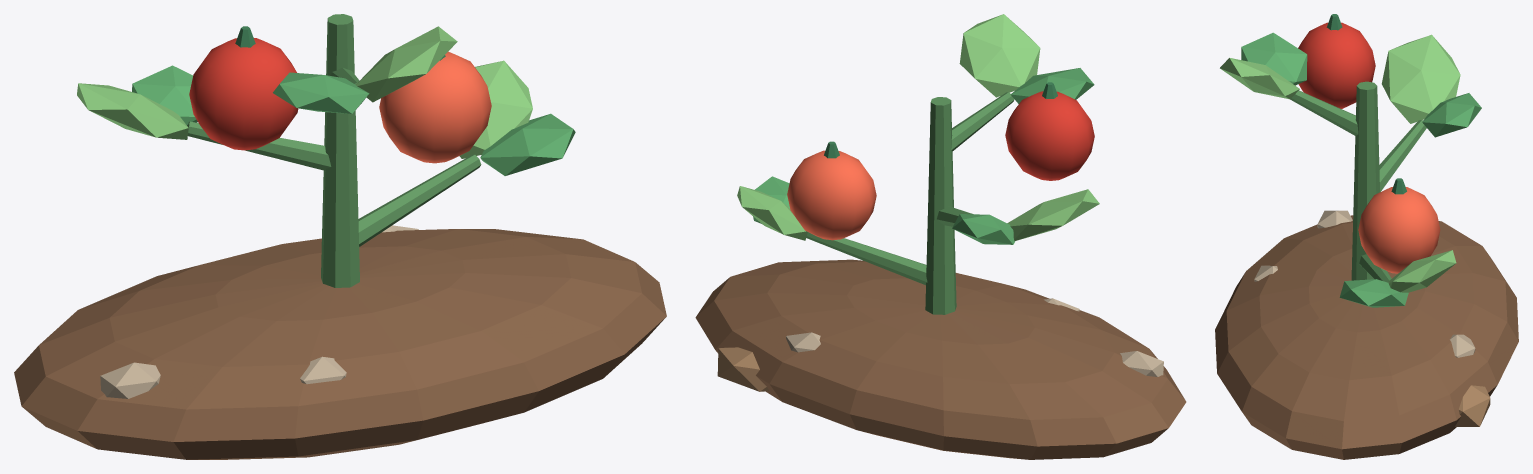
Rendered from (1)potato.fbx.
3 renders of one model, left to right at view 1: azimuth 30°, elevation 25°; view 2: azimuth 150°, elevation 25°; view 3: azimuth 270°, elevation 25°, orthographic. The views are drawn at different scales.
Parts seen in each view (by area): view 1: Tomato_Level_1; view 2: Tomato_Level_1; view 3: Tomato_Level_1.
Part boxes in pixels (bbox=[...]): Tomato_Level_1: bbox=[14, 14, 666, 459]; Tomato_Level_1: bbox=[695, 14, 1186, 459]; Tomato_Level_1: bbox=[1215, 14, 1518, 459].
Bounding box in the file's own units: 280 × 191 × 158.
